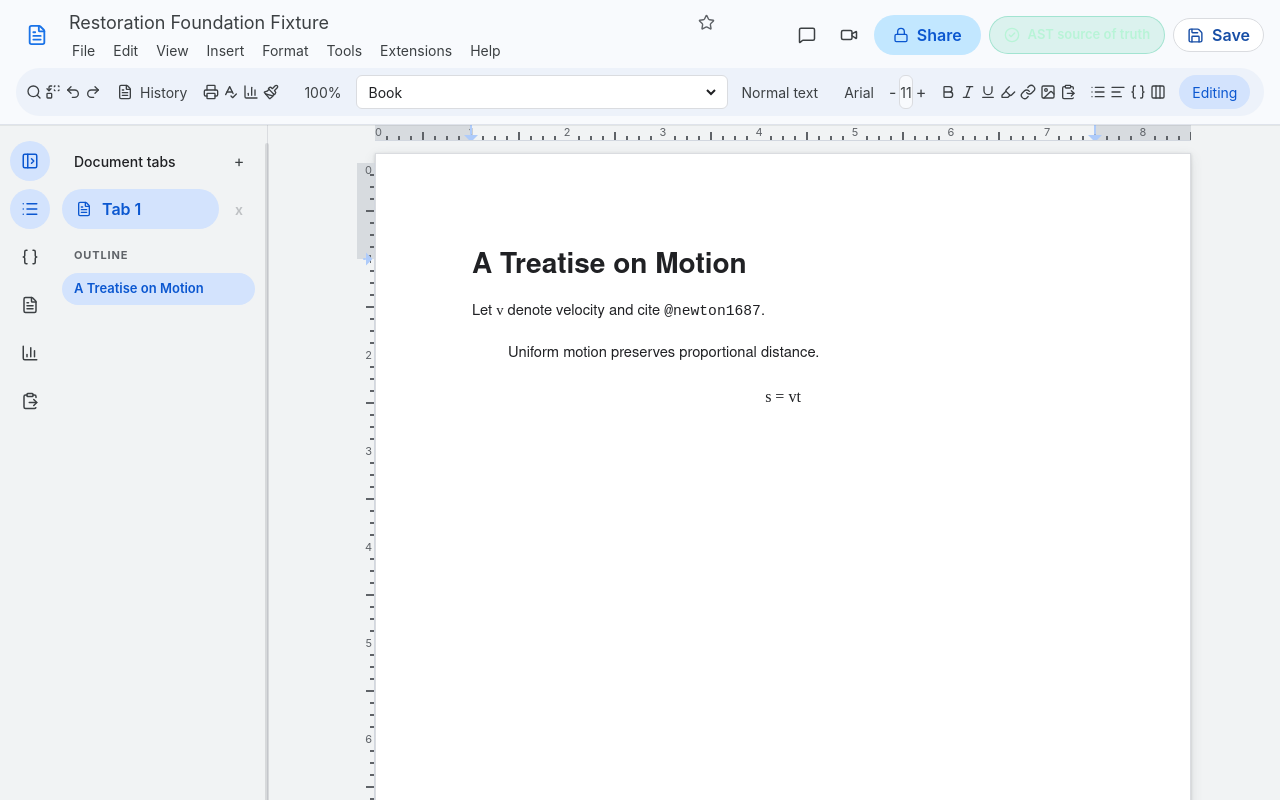
Test: EditorWorkspace › highlights all visible find matches and marks the current match
Step 1. Click the button named "Find and replace" → point(53, 92), box [44,75,62,109]
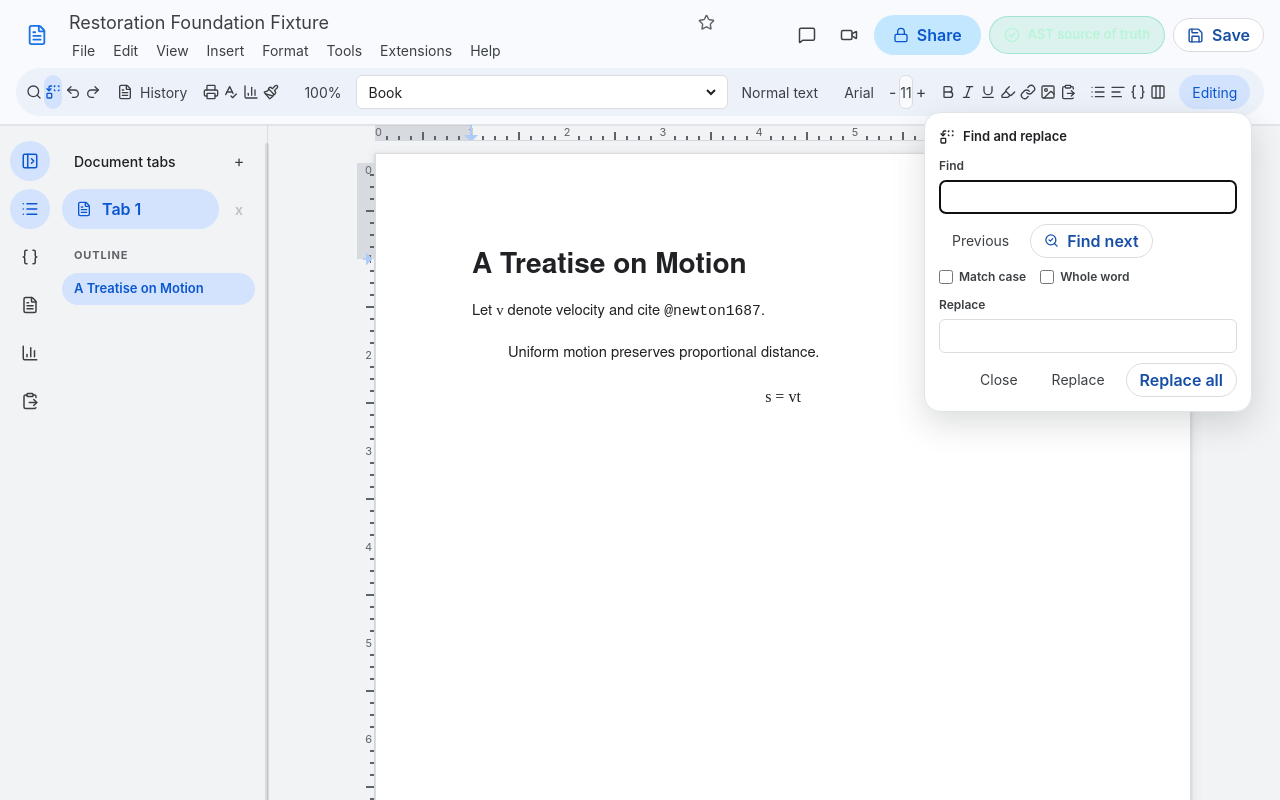
Step 2. Type "motion" into the search field named "Find text" → point(1088, 196), box [939,180,1237,214]
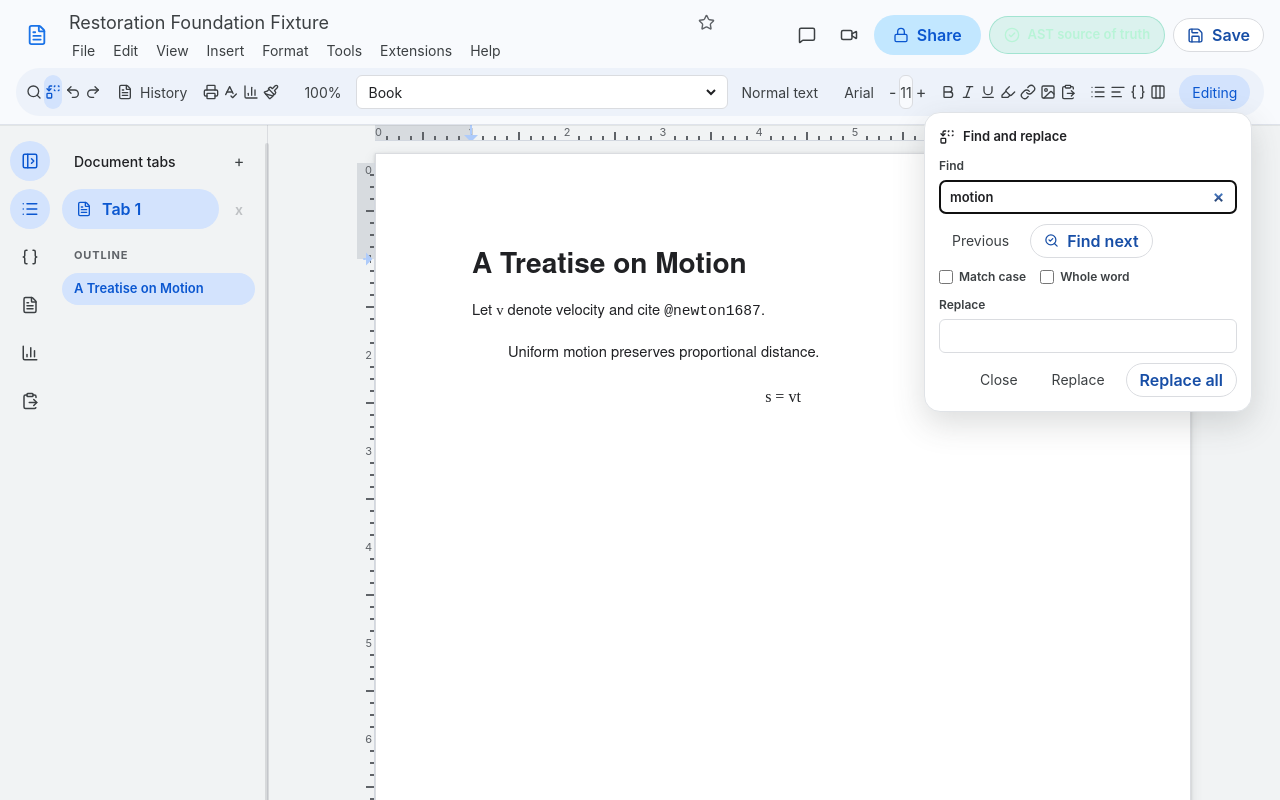
Step 3. Click the button "Find next" → point(1091, 240), box [1030,224,1152,258]
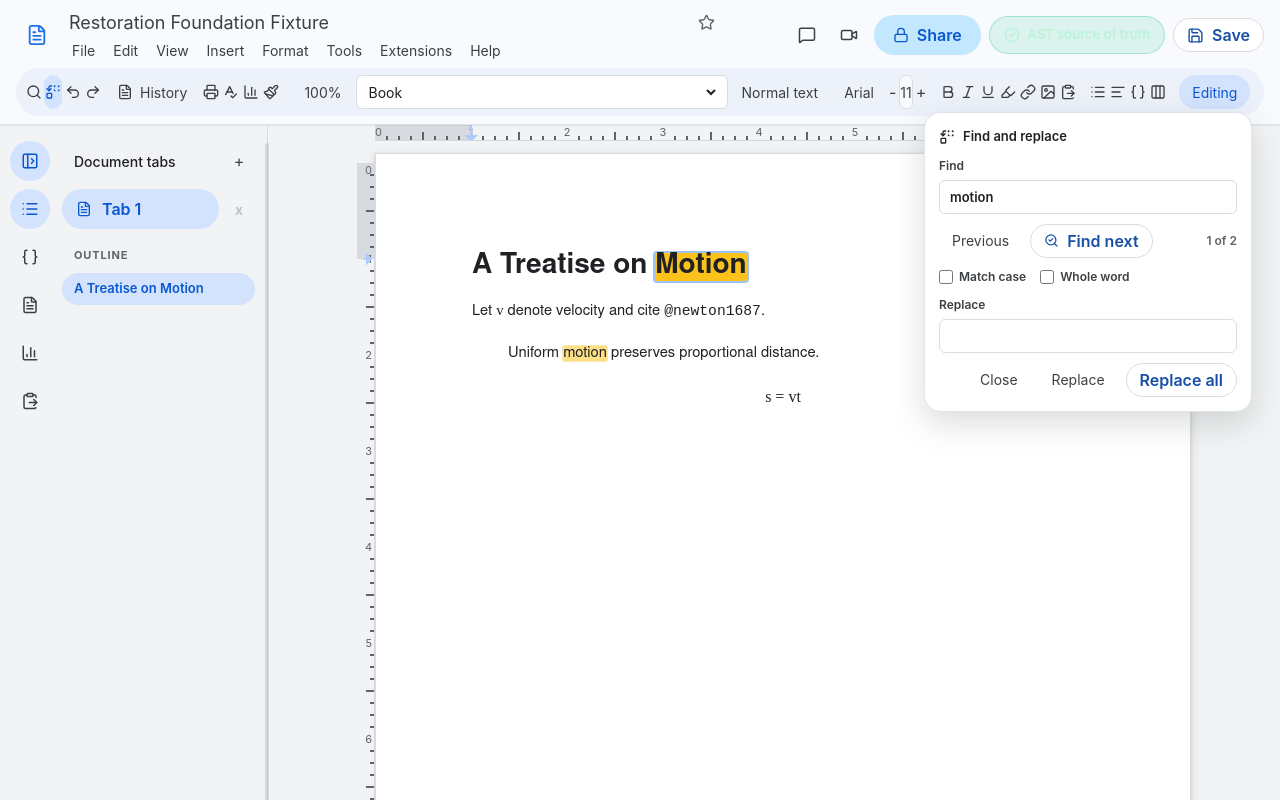
Check: the text "1 of 2" is shown, box [1206,232,1237,248]
Check: the number of text boxes with class "ik-find-highlight" is 2, box [655,253,747,281]; [563,346,607,361]
Check: the number of text boxes with class "ik-find-highlight-current" is 1, box [655,253,747,281]
